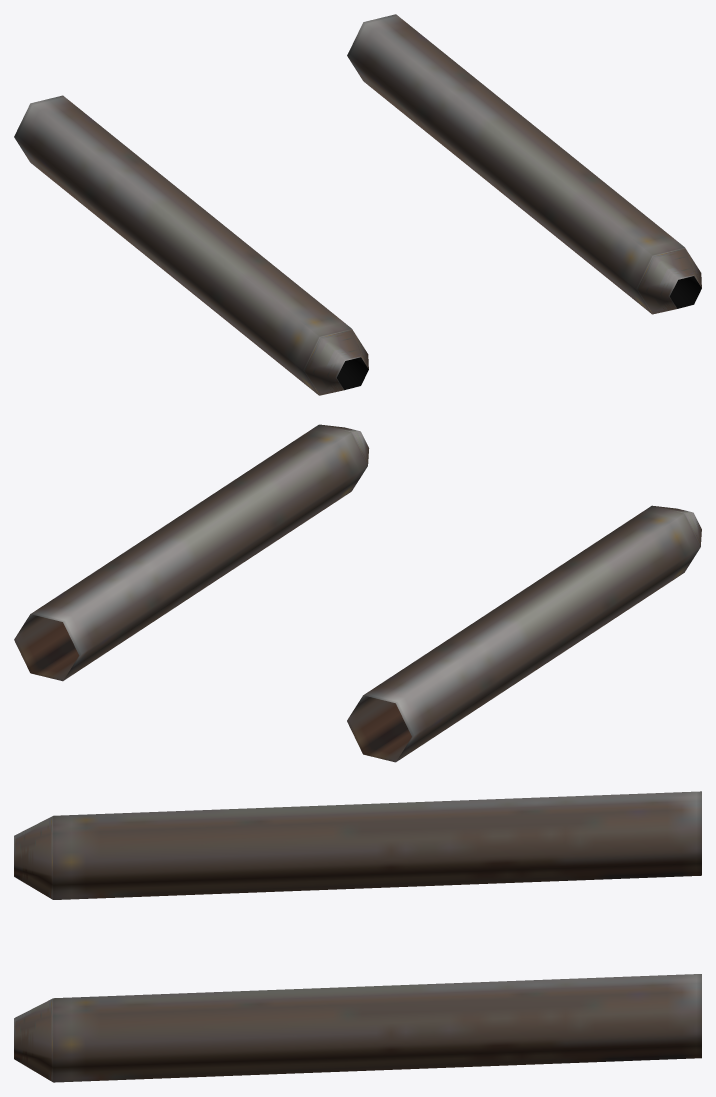
Rendered from exh_lr_rem1.glb.
The picture shows the model from 3 angles, top to bottom: view 1: azimuth 30°, elevation 25°; view 2: azimuth 150°, elevation 25°; view 3: azimuth 270°, elevation 25°; orthographic projection. The views are drawn at different scales.
Parts seen in each view (by area): view 1: exh_lr_rem1; view 2: exh_lr_rem1; view 3: exh_lr_rem1.
Part boxes in pixels (<box>): exh_lr_rem1: <box>14,14,701,395</box>; exh_lr_rem1: <box>14,424,701,762</box>; exh_lr_rem1: <box>14,791,701,1082</box>.
Size of the model in its own units: 1.14 by 0.222 by 1.52.
Materials: 2 (2 with a texture image).
